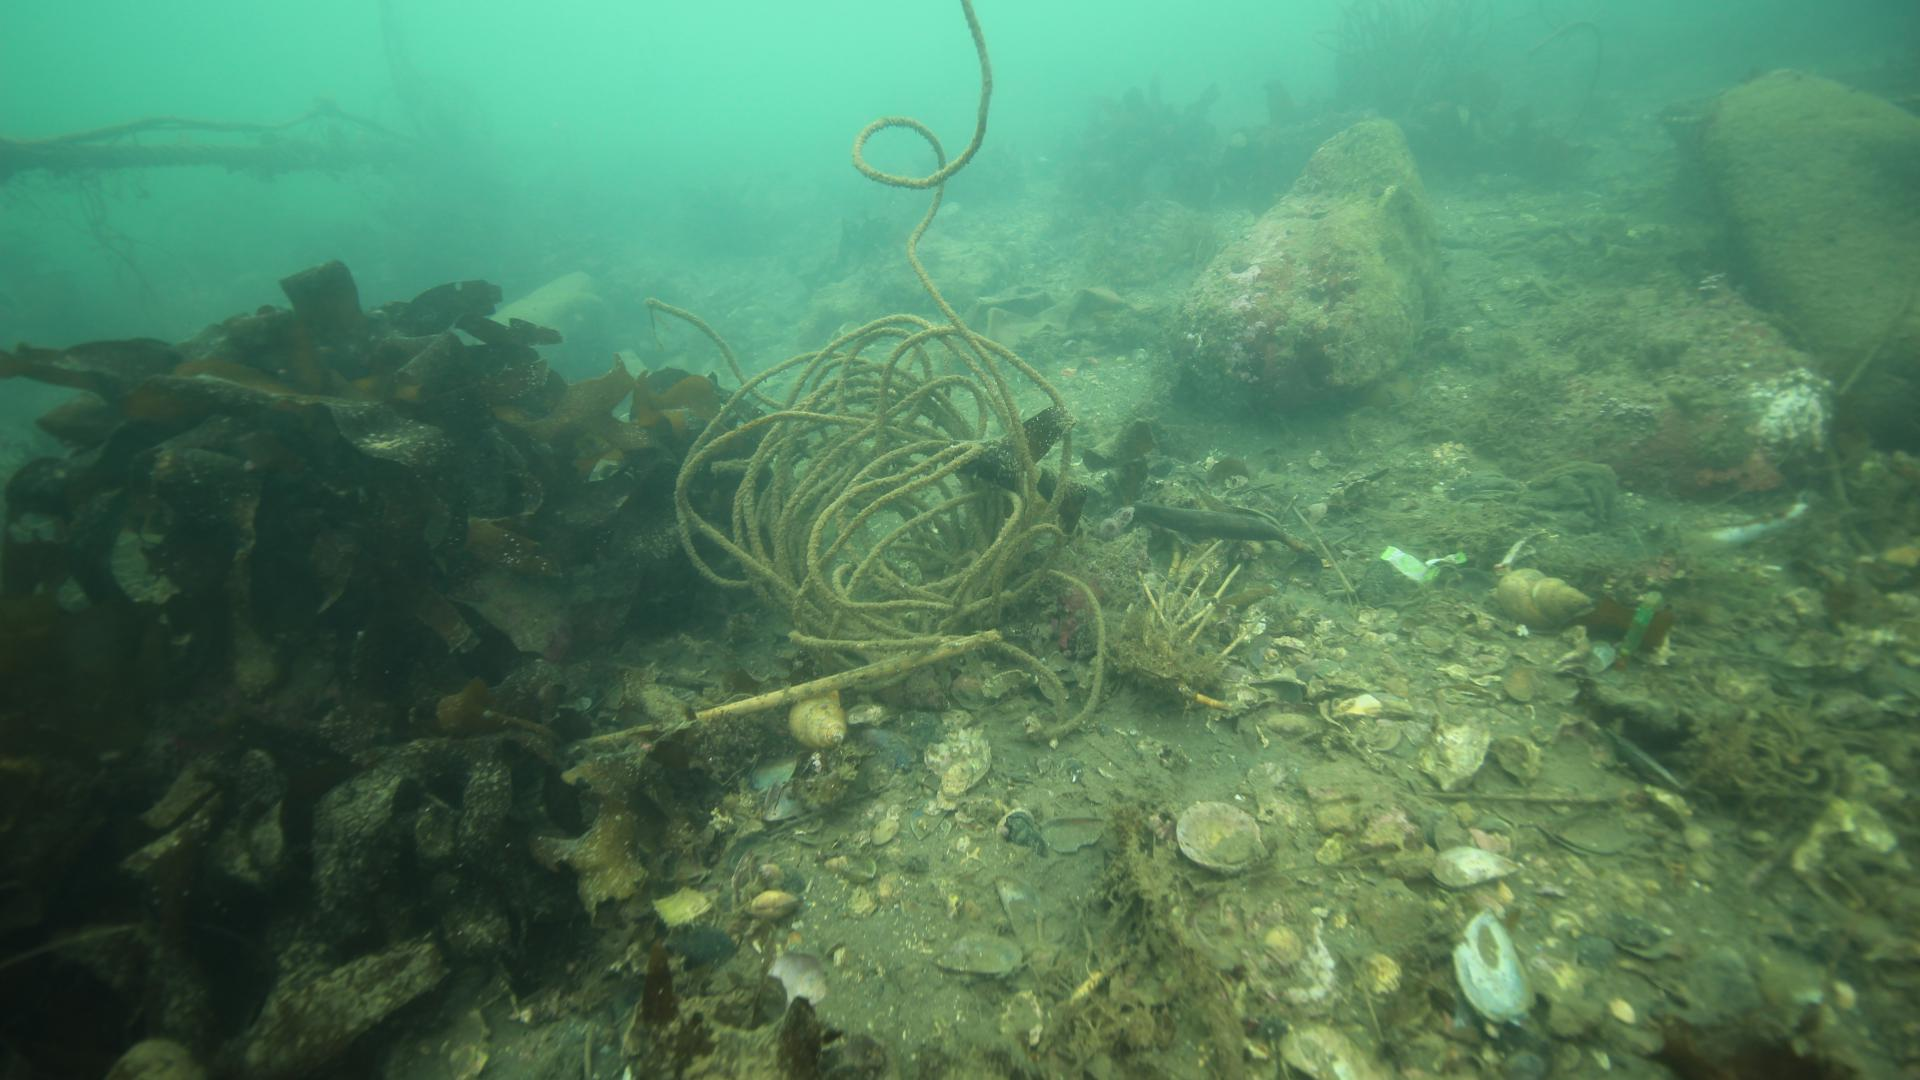bundle of ropes: (644, 0, 1108, 742)
